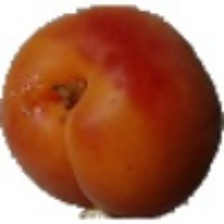apricot: (51, 29, 196, 224)
